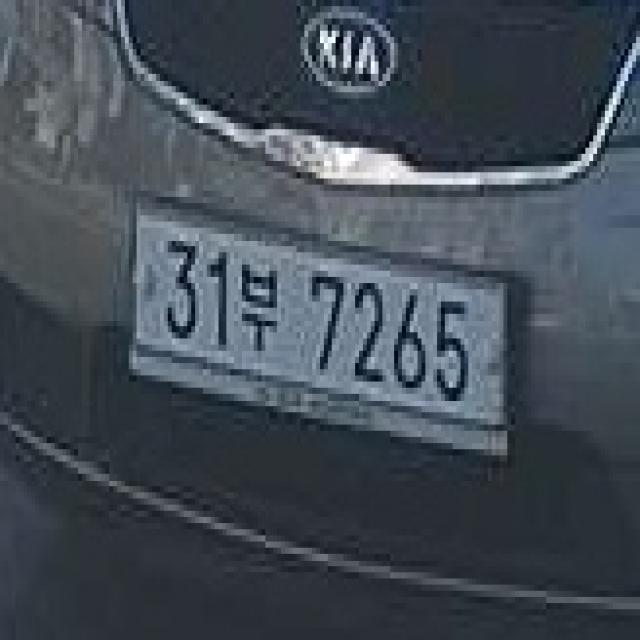1: (203, 246, 234, 351)
2: (352, 277, 386, 388)
3: (160, 228, 199, 344)
5: (429, 295, 468, 400)
6: (390, 283, 430, 394)
7: (308, 264, 344, 376)
bu: (234, 258, 281, 357)
license_plate: (129, 203, 511, 431)
